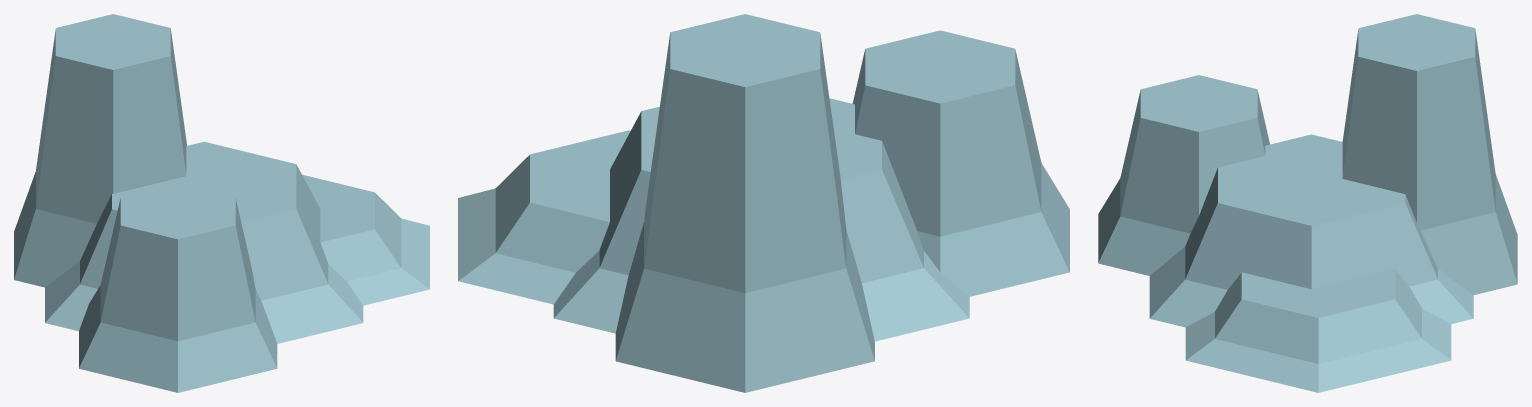
File: rocks.dae
3 views of the same model, side by side, from view 1: azimuth 30°, elevation 25°; view 2: azimuth 150°, elevation 25°; view 3: azimuth 270°, elevation 25° (orthographic). The views are drawn at different scales.
Visible parts, largest first — view 1: rocks; view 2: rocks; view 3: rocks.
Part boxes in pixels (x1,y1,x2,y2): rocks: [14, 14, 429, 392]; rocks: [458, 14, 1069, 392]; rocks: [1098, 14, 1517, 392].
Size of the model in its own units: 0.9342 by 0.4657 by 0.8148.
